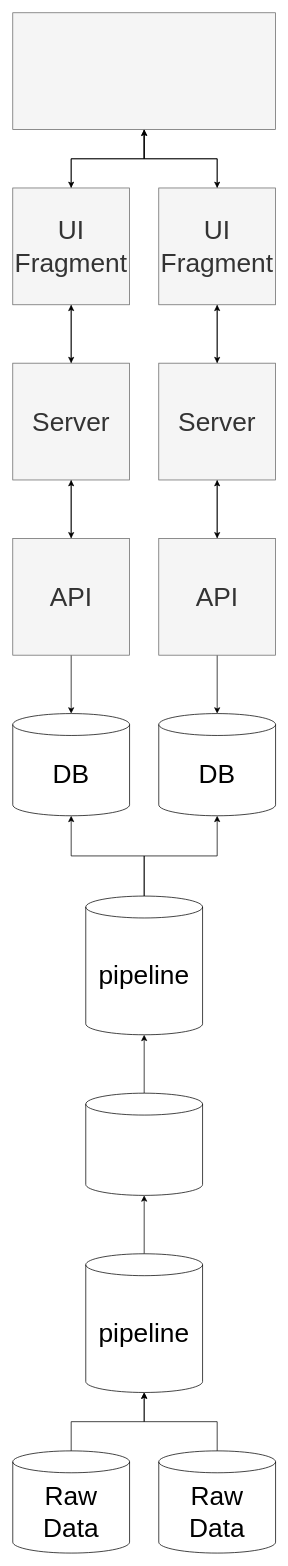
Some shapes in this 288 by 1566 pixel diagram are drawn without their labels. Here are the shapes that lost their labels. From the top down, the box of each, then its label:
(12, 12, 276, 130): Browser
(85, 1092, 203, 1195): Core DB
